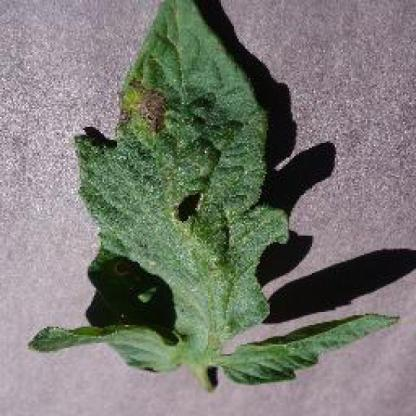Tomato_Blight: (32, 4, 392, 378)
